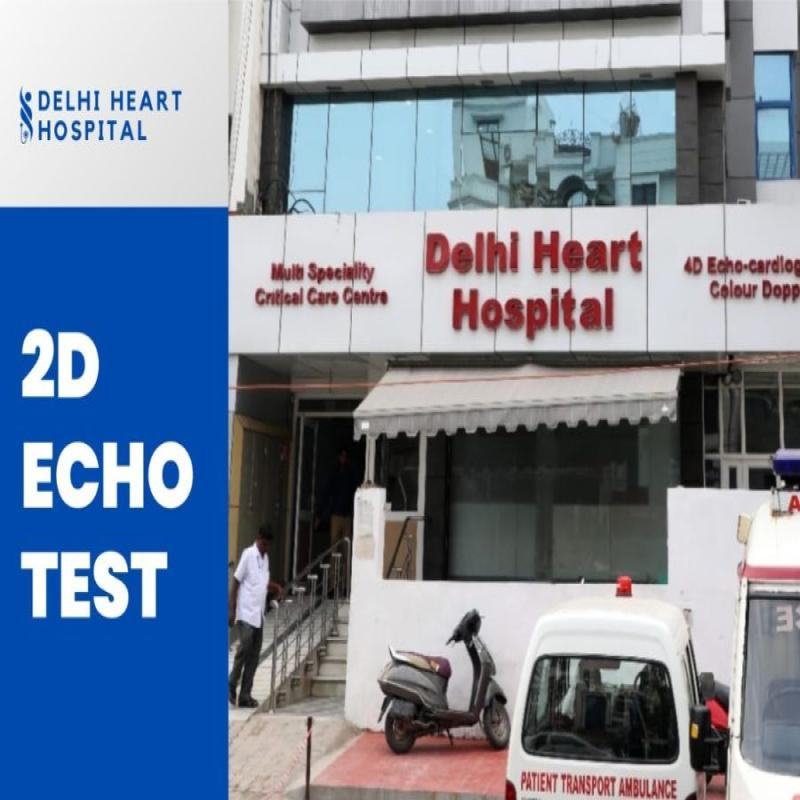ambulance: (483, 585, 709, 800)
